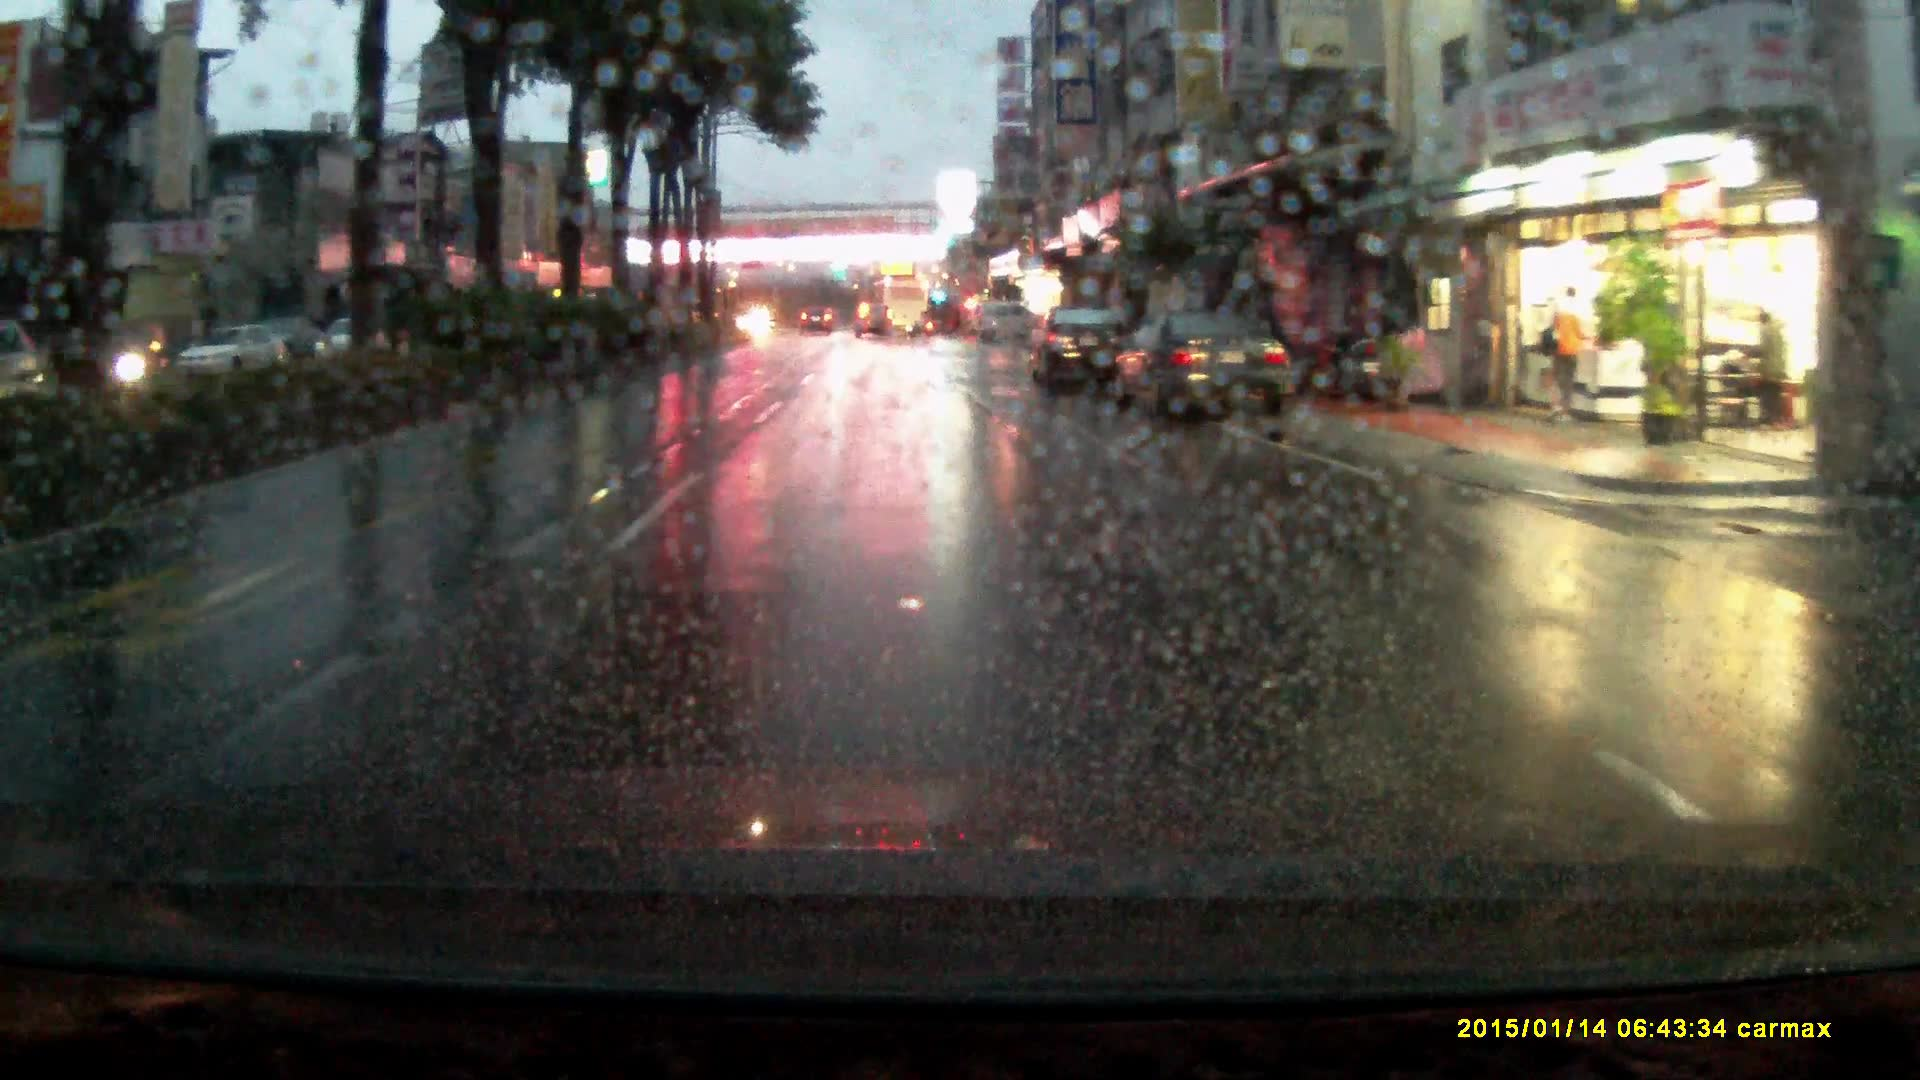vehicle: (1104, 305, 1298, 417), (1033, 301, 1135, 396), (174, 326, 291, 382), (968, 301, 1044, 345), (873, 280, 930, 335), (319, 315, 386, 359), (855, 299, 895, 335), (800, 301, 837, 330)
